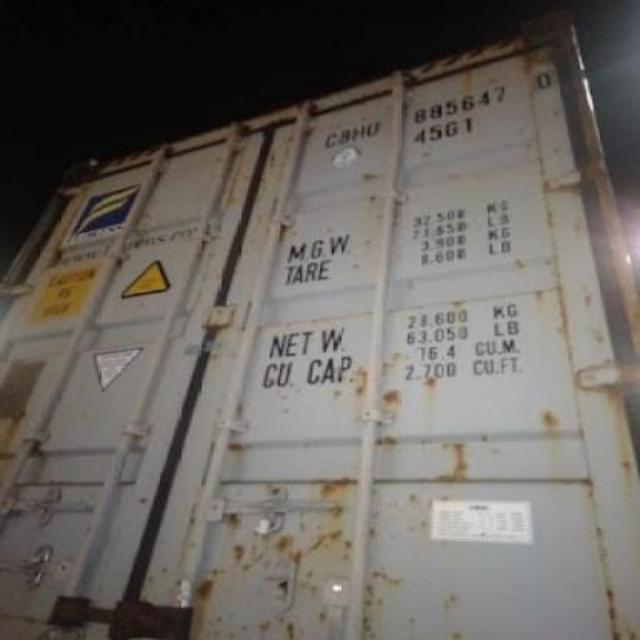0: (538, 72, 550, 86)
4: (476, 90, 492, 106)
5: (446, 99, 458, 115)
6: (462, 94, 474, 110)
7: (492, 86, 508, 102)
8: (414, 108, 426, 122), (430, 105, 442, 118)
B: (338, 129, 352, 145)
C: (324, 134, 336, 146)
H: (354, 126, 364, 138)
U: (366, 122, 379, 136)
